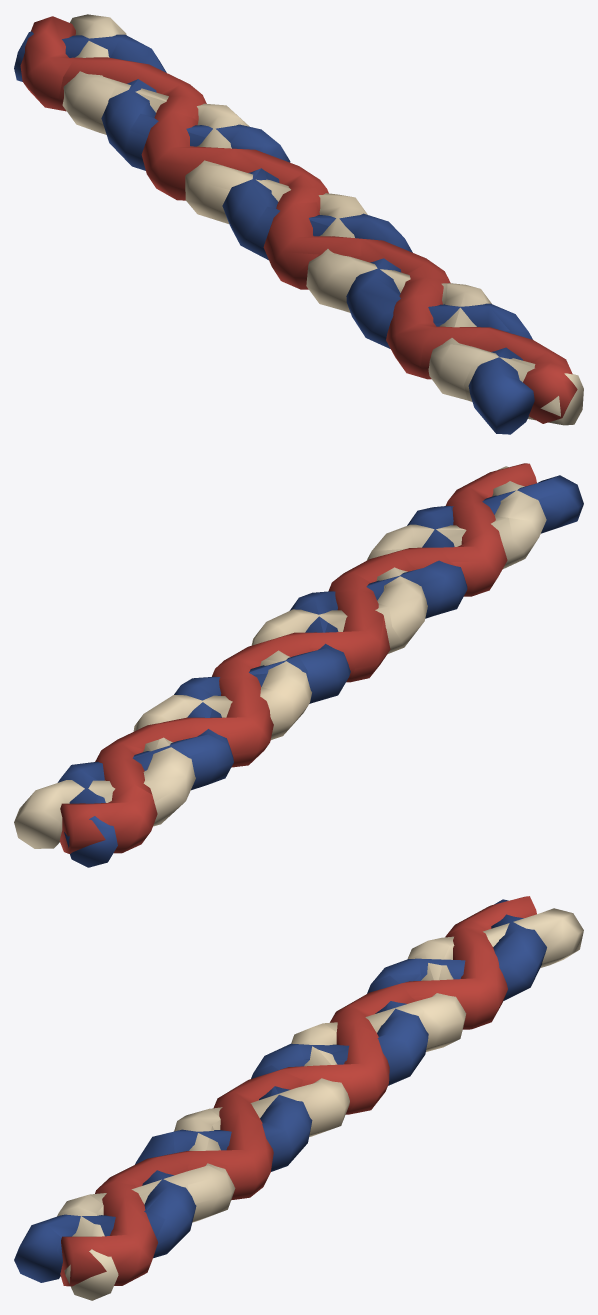
Rendered from den_rug_binding_lod1.glb.
3 views of the same model, one above another, from view 1: azimuth 30°, elevation 25°; view 2: azimuth 150°, elevation 25°; view 3: azimuth 330°, elevation 25° (orthographic). The views are drawn at different scales.
Parts seen in each view (by area): view 1: den_rug_binding.001; view 2: den_rug_binding.001; view 3: den_rug_binding.001.
Part boxes in pixels (x1,y1,x2,y2): den_rug_binding.001: (14,14,583,434); den_rug_binding.001: (14,463,583,867); den_rug_binding.001: (14,896,583,1300).
Bounding box in the file's own units: 1.59 × 0.8437 × 12.46.
